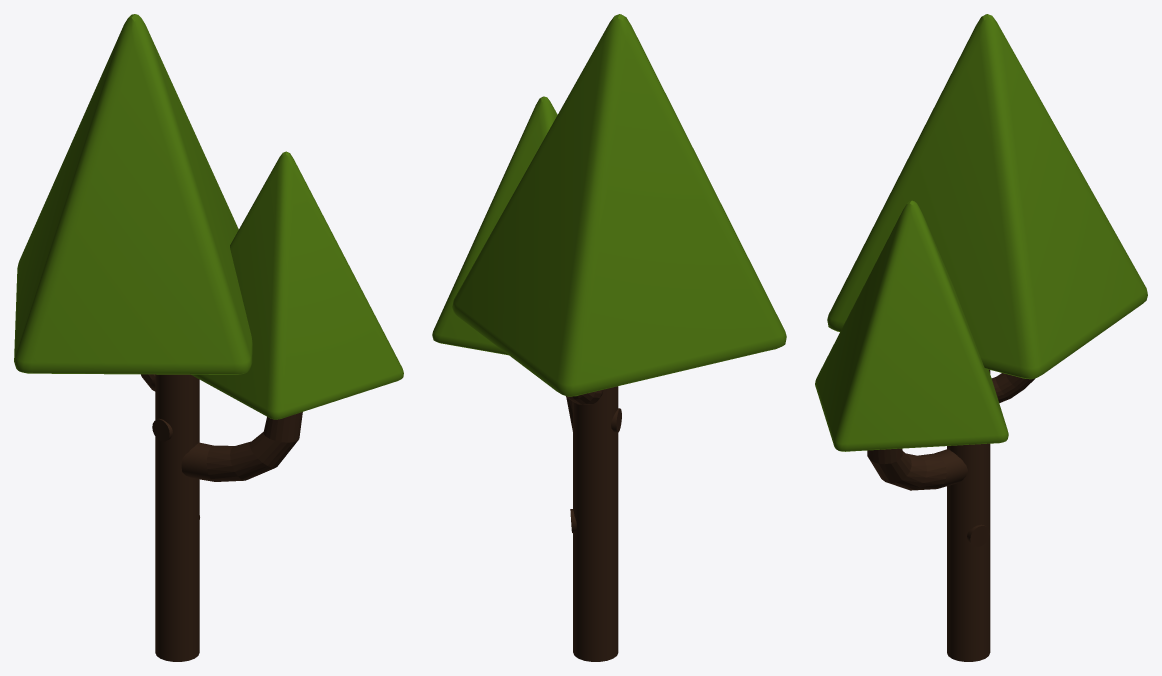
Rendered from Árbol 1.fbx.
3 renders of one model, left to right at view 1: azimuth 30°, elevation 25°; view 2: azimuth 150°, elevation 25°; view 3: azimuth 270°, elevation 25°, orthographic. The views are drawn at different scales.
Visible parts, largest first — view 1: Árbol 3; view 2: Árbol 3; view 3: Árbol 3.
Part boxes in pixels (x1,y1,x2,y2): Árbol 3: (14,14,403,661); Árbol 3: (432,14,786,661); Árbol 3: (815,14,1147,661).
Size of the model in its own units: 136 by 248 by 120.
